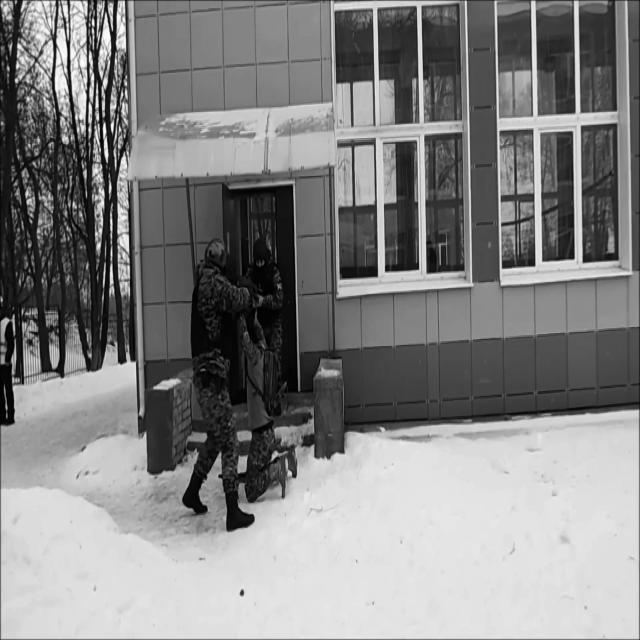gun: (235, 272, 265, 306)
person: (246, 240, 284, 388), (0, 301, 15, 426)
person with a gun: (182, 239, 264, 531)
